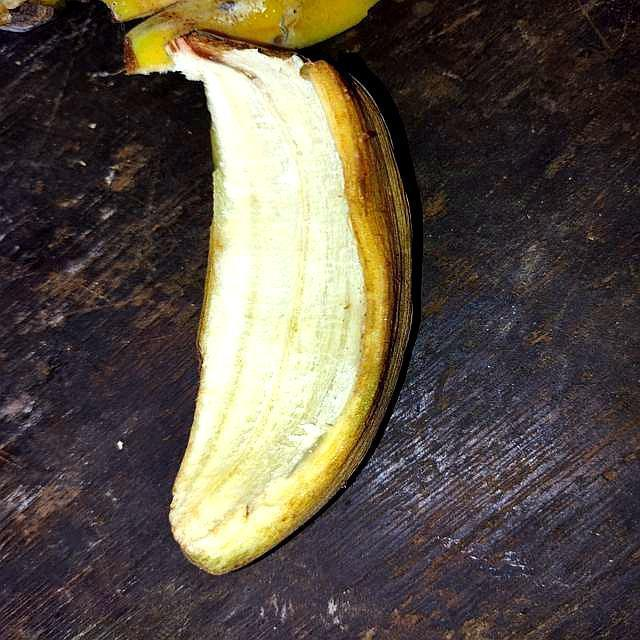Biodegradable: (165, 1, 409, 577)
